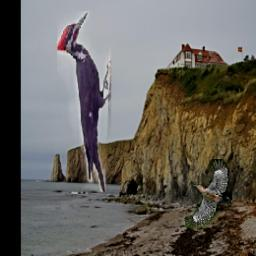Woodpecker: (56, 11, 110, 192), (185, 160, 232, 229)
